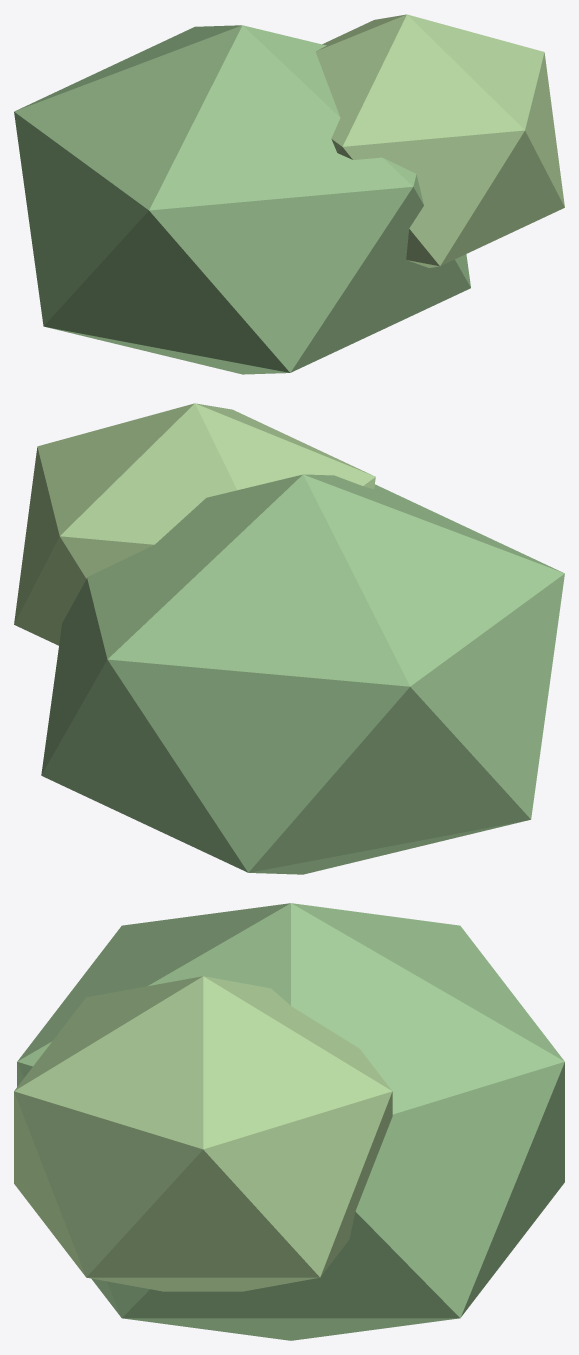
File: shrub.glb
3 renders of one model, top to bottom at view 1: azimuth 30°, elevation 25°; view 2: azimuth 150°, elevation 25°; view 3: azimuth 270°, elevation 25°, orthographic. The views are drawn at different scales.
Visible parts, largest first — view 1: shrub; view 2: shrub; view 3: shrub.
Part boxes in pixels (x1,y1,x2,y2): shrub: [14, 14, 564, 374]; shrub: [14, 403, 564, 874]; shrub: [14, 903, 564, 1340].
Bounding box in the file's own units: 1.15 × 0.8365 × 0.9411.
